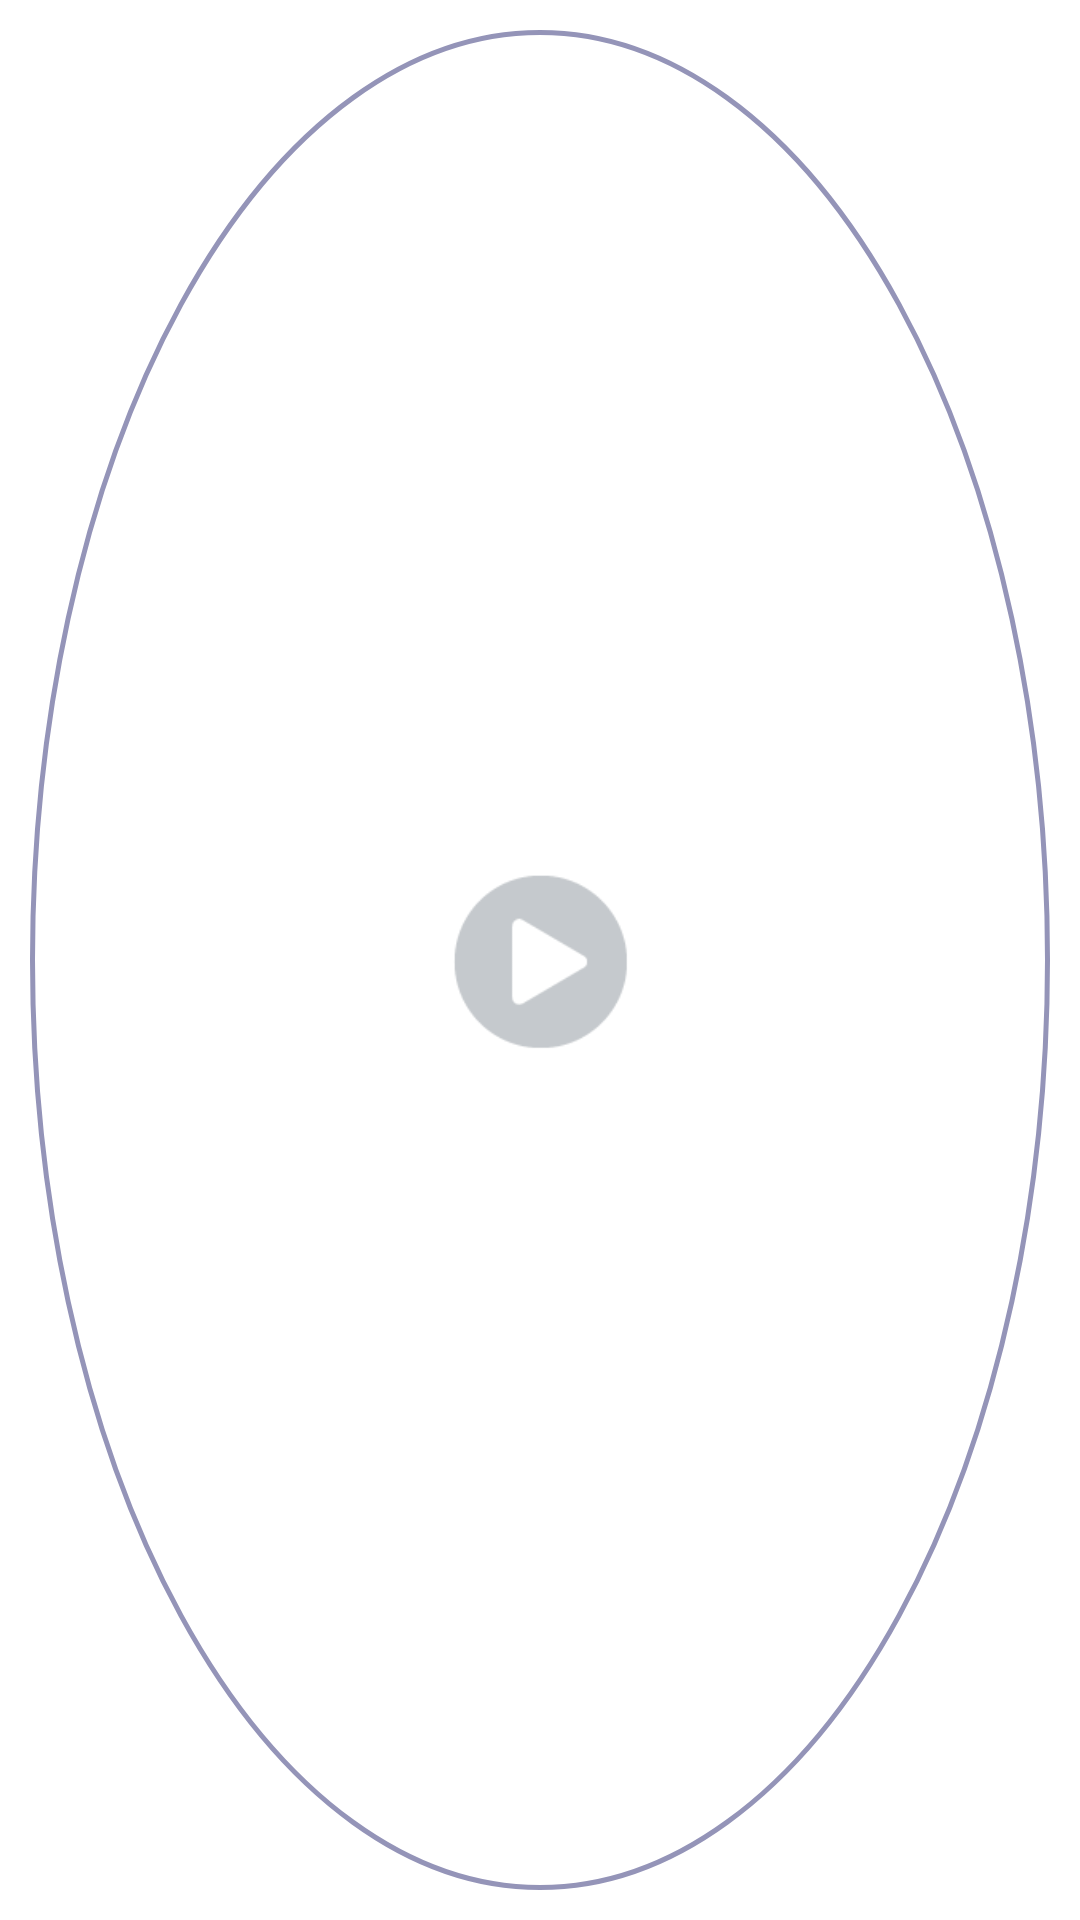

Named icons in this screenshot (1080px×1920px) and their bounding boxes, (x1, y1, x2, y2):
play: (455, 876, 627, 1048)
